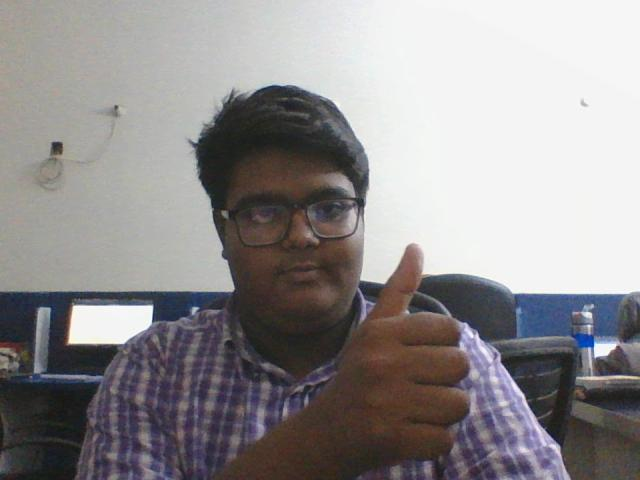thumbs-up: (356, 237, 473, 456)
